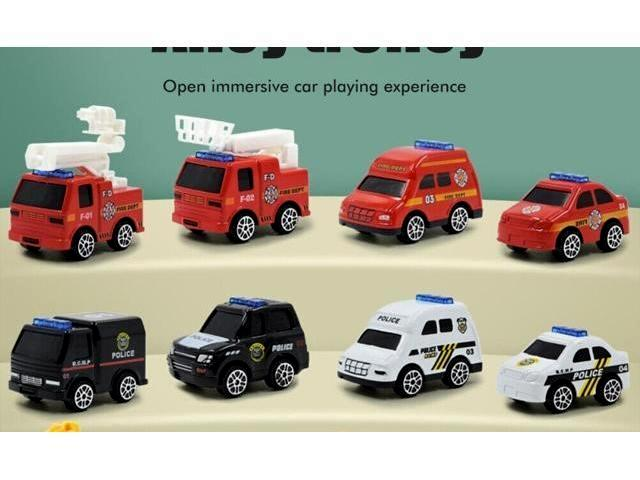toy-car: (8, 104, 146, 262), (171, 114, 312, 243), (337, 293, 482, 398), (339, 139, 483, 243), (166, 295, 310, 398), (9, 311, 149, 411), (496, 171, 630, 262), (497, 325, 629, 412)
